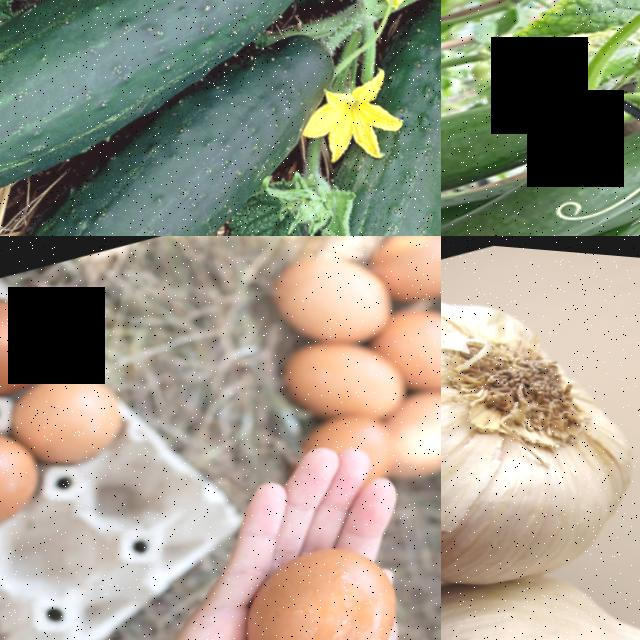cucumber: (0, 0, 240, 234), (0, 95, 266, 236), (441, 41, 594, 236), (482, 77, 640, 236), (245, 142, 441, 236)
egg_: (222, 519, 419, 640), (273, 311, 412, 431), (7, 354, 137, 478), (262, 236, 396, 354), (0, 281, 69, 408), (0, 417, 56, 541), (380, 282, 441, 395), (364, 236, 441, 307)
garlic: (441, 236, 640, 640), (441, 508, 640, 640)
